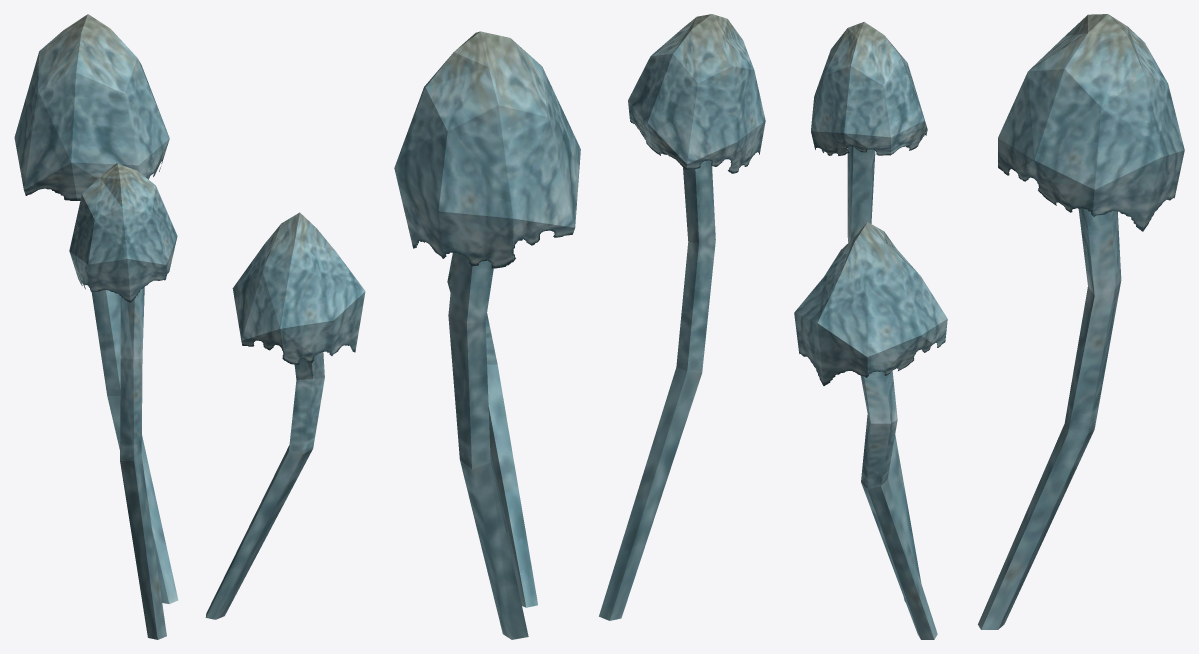
Rendered from C4SNFUNGIA.obj.
The picture shows the model from 3 angles, left to right: view 1: azimuth 30°, elevation 25°; view 2: azimuth 150°, elevation 25°; view 3: azimuth 270°, elevation 25°; orthographic projection. The views are drawn at different scales.
Visible parts, largest first — view 1: Node 0; view 2: Node 0; view 3: Node 0.
Boxes of the visible parts, x1,y1,x2,y2 form: Node 0: [14, 14, 365, 639]; Node 0: [394, 14, 765, 639]; Node 0: [794, 14, 1184, 639].
Size of the model in its own units: 1.06 by 1.98 by 1.17.
1 material, 1 textured.
